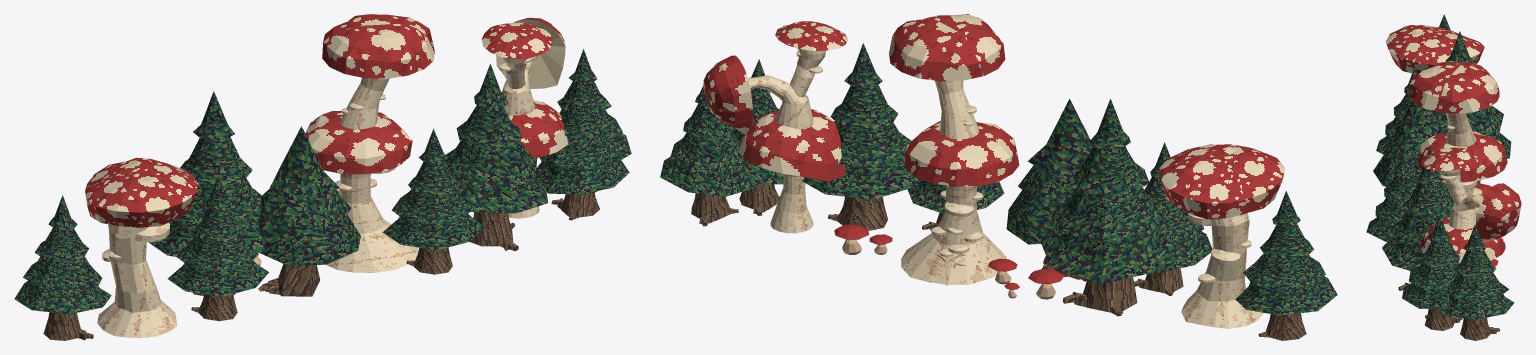
Rendered from mushroom_wall2.fbx.
3 views of the same model, side by side, from view 1: azimuth 30°, elevation 25°; view 2: azimuth 150°, elevation 25°; view 3: azimuth 270°, elevation 25° (orthographic). The views are drawn at different scales.
Parts seen in each view (by area): view 1: Mushroom_Large.001, Mushroom_Mid.001, Small_Tree.001, Large_Tree.002, Large_Tree.014, Large_Tree.010, Large_Tree.013, Large_Tree.009, Large_Tree.011, Mushroom_Large _2.001, Trunk.002, Large_Tree.012; view 2: Mushroom_Large.001, Large_Tree.009, Mushroom_Mid.001, Mushroom_Large _2.001, Large_Tree.002, Large_Tree.013, Large_Tree.012, Small_Tree.001, Large_Tree.010, Trunk.002, Large_Tree.011, Large_Tree.014 (+2 smaller); view 3: Mushroom_Large.001, Large_Tree.012, Mushroom_Large _2.001, Large_Tree.002, Large_Tree.011, Mushroom_Mid.001, Small_Tree.001, Large_Tree.014, Trunk.002, Large_Tree.009, Large_Tree.010.
Boxes of the visible parts, bbox=[...] form: Mushroom_Large.001: bbox=[305, 14, 434, 272]; Mushroom_Mid.001: bbox=[85, 157, 198, 338]; Small_Tree.001: bbox=[258, 126, 360, 296]; Large_Tree.002: bbox=[445, 63, 548, 251]; Large_Tree.014: bbox=[383, 128, 484, 274]; Large_Tree.010: bbox=[167, 175, 268, 321]; Large_Tree.013: bbox=[14, 195, 111, 340]; Large_Tree.009: bbox=[149, 91, 267, 295]; Large_Tree.011: bbox=[535, 71, 629, 220]; Mushroom_Large _2.001: bbox=[496, 17, 568, 218]; Trunk.002: bbox=[481, 22, 552, 89]; Large_Tree.012: bbox=[540, 49, 631, 192]; Mushroom_Large.001: bbox=[889, 14, 1019, 285]; Large_Tree.009: bbox=[1039, 98, 1179, 316]; Mushroom_Mid.001: bbox=[1159, 144, 1285, 328]; Mushroom_Large _2.001: bbox=[703, 55, 845, 233]; Large_Tree.002: bbox=[802, 43, 919, 230]; Large_Tree.013: bbox=[1235, 191, 1337, 340]; Large_Tree.012: bbox=[660, 69, 757, 226]; Small_Tree.001: bbox=[1006, 98, 1091, 281]; Large_Tree.010: bbox=[1134, 142, 1212, 295]; Trunk.002: bbox=[775, 21, 847, 102]; Large_Tree.011: bbox=[733, 59, 783, 215]; Large_Tree.014: bbox=[907, 179, 1004, 230]; Mushroom_Large.001: bbox=[1409, 61, 1507, 215]; Large_Tree.012: bbox=[1441, 224, 1514, 340]; Mushroom_Large _2.001: bbox=[1420, 183, 1521, 264]; Large_Tree.002: bbox=[1382, 149, 1455, 290]; Large_Tree.011: bbox=[1402, 214, 1462, 330]; Mushroom_Mid.001: bbox=[1385, 25, 1484, 73]; Small_Tree.001: bbox=[1373, 101, 1450, 192]; Large_Tree.014: bbox=[1366, 149, 1417, 241]; Trunk.002: bbox=[1421, 147, 1477, 213]; Large_Tree.009: bbox=[1436, 31, 1511, 194]; Large_Tree.010: bbox=[1376, 67, 1416, 154].
Bounding box in the file's own units: 2651 × 922 × 716.
